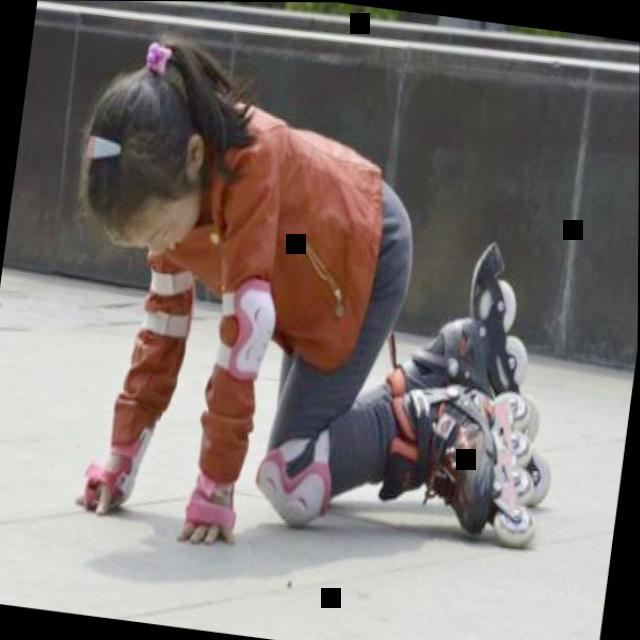Fall-Detected: (25, 17, 569, 574)
